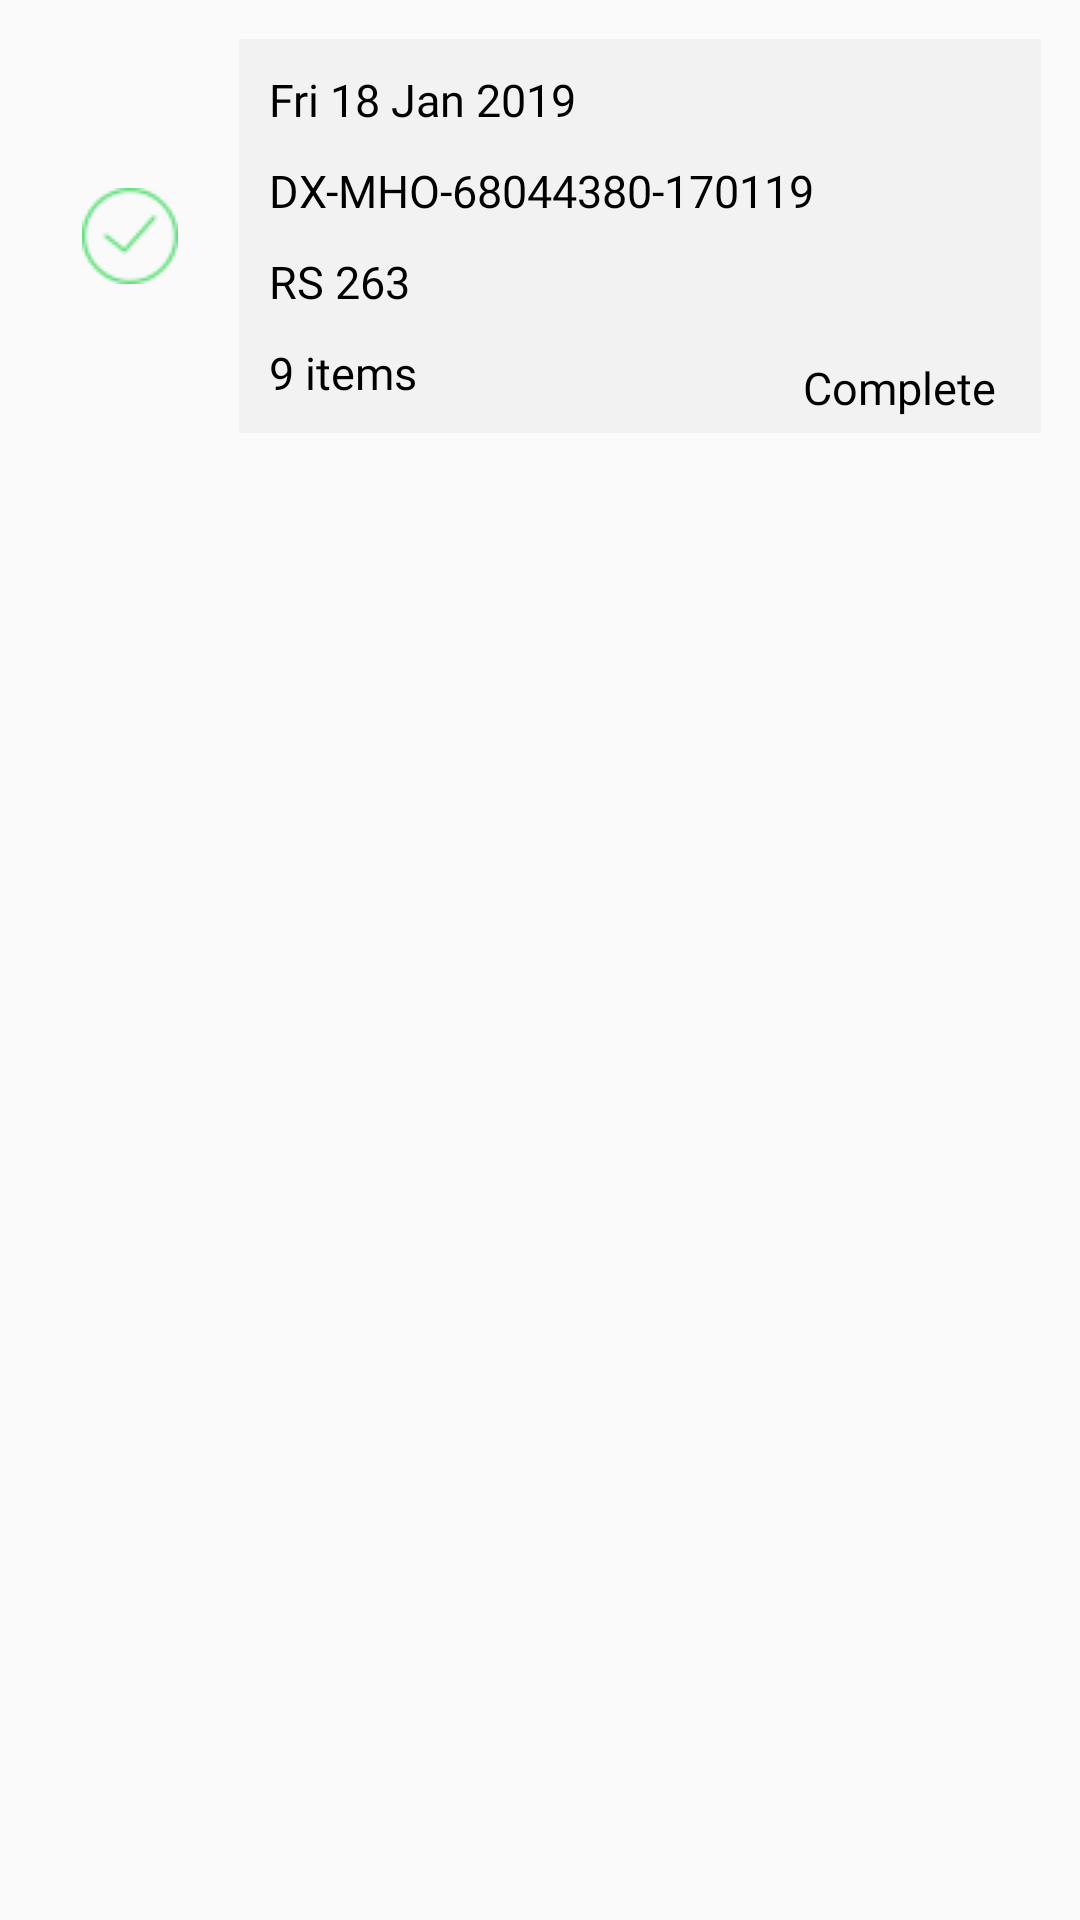

Named icons in this screenshot (1080*1920) and their bounding boxes, (x1, y1, x2, y2):
tick: (82, 188, 178, 284)
